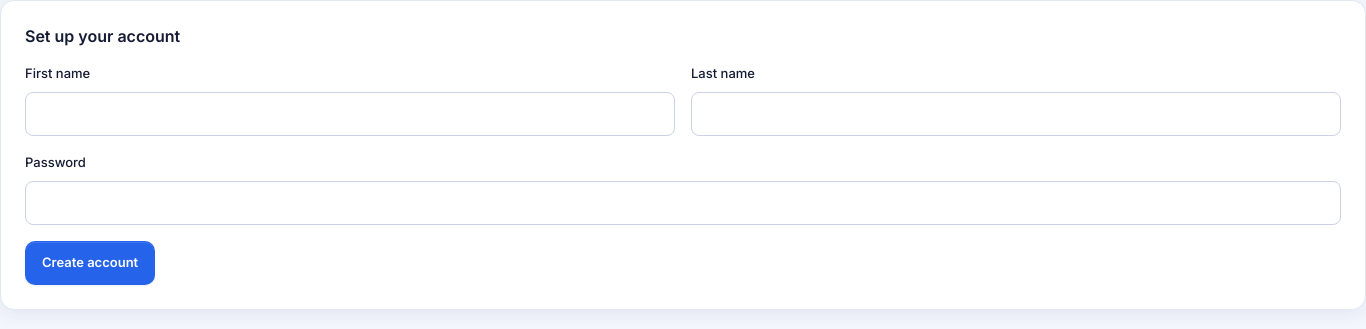
Test: <AcceptInvitationScreen> › submits the form and shows a success state without auto-logging in
Type "New" into the field labelled "First name".
click(350, 114); type("New")  # box [25, 92, 675, 136]
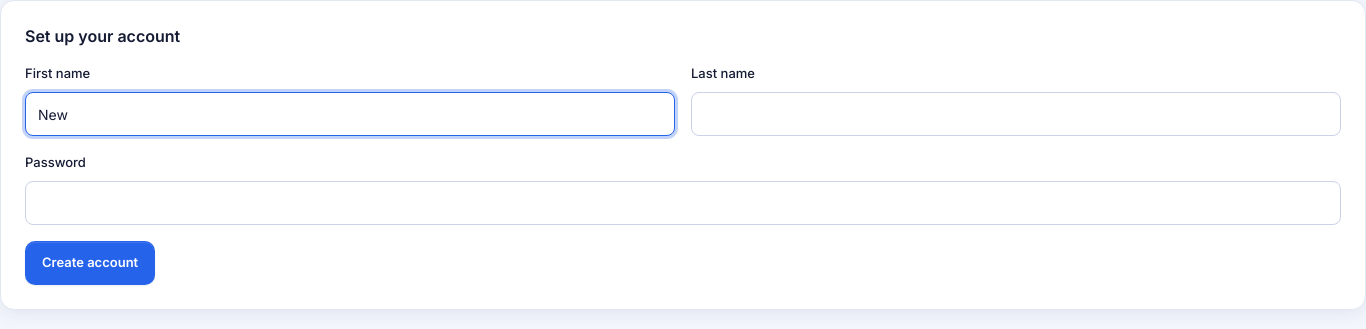
Type "Hire" into the field labelled "Last name".
click(1016, 114); type("Hire")  # box [691, 92, 1341, 136]
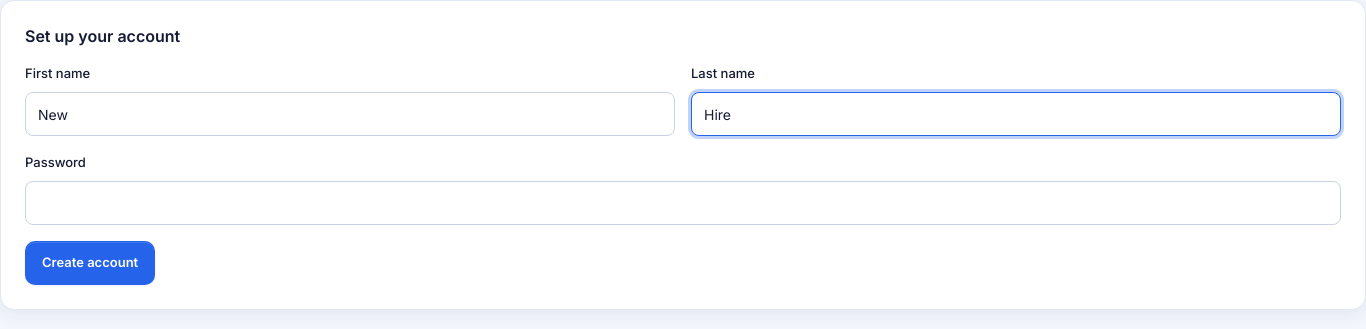
Type "a brand new strong passphrase" into the password field labelled "Password".
click(683, 203); type("a brand new strong passphrase")  # box [25, 181, 1341, 225]
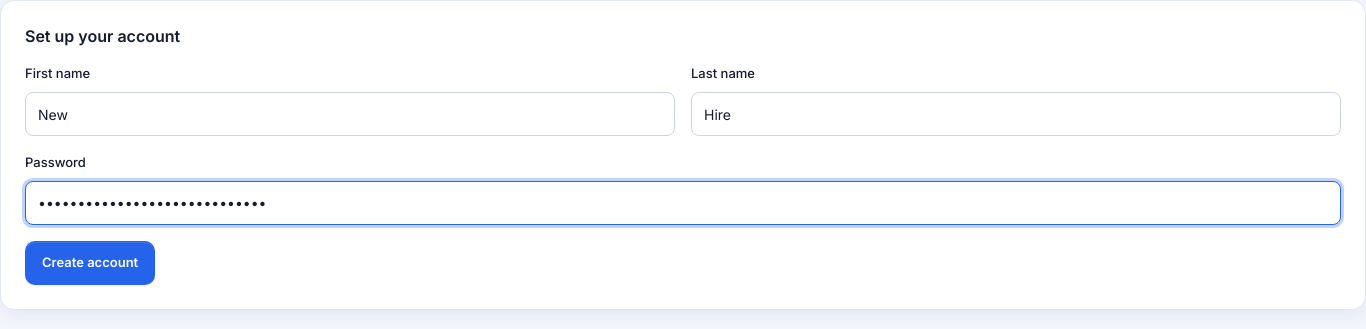
Click the button "Create account".
click(90, 263)  # box [25, 241, 155, 285]
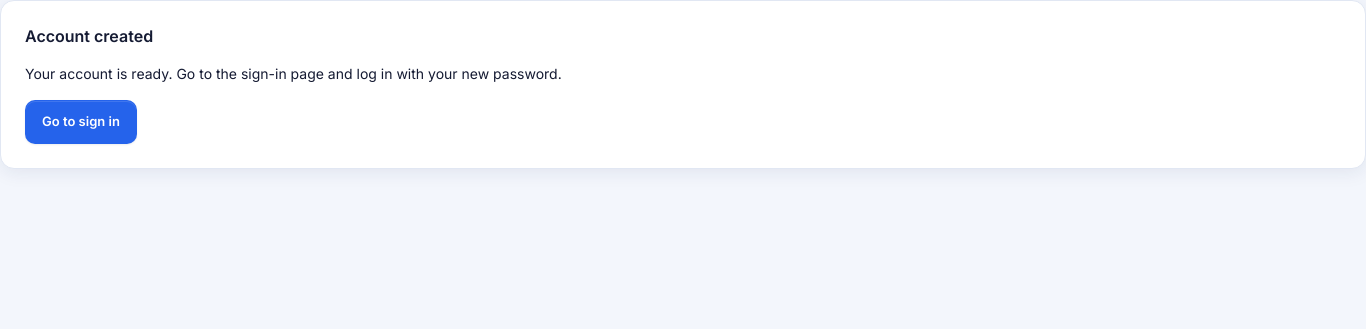
Result: the text "account is ready" is shown at [25, 65, 562, 82]
